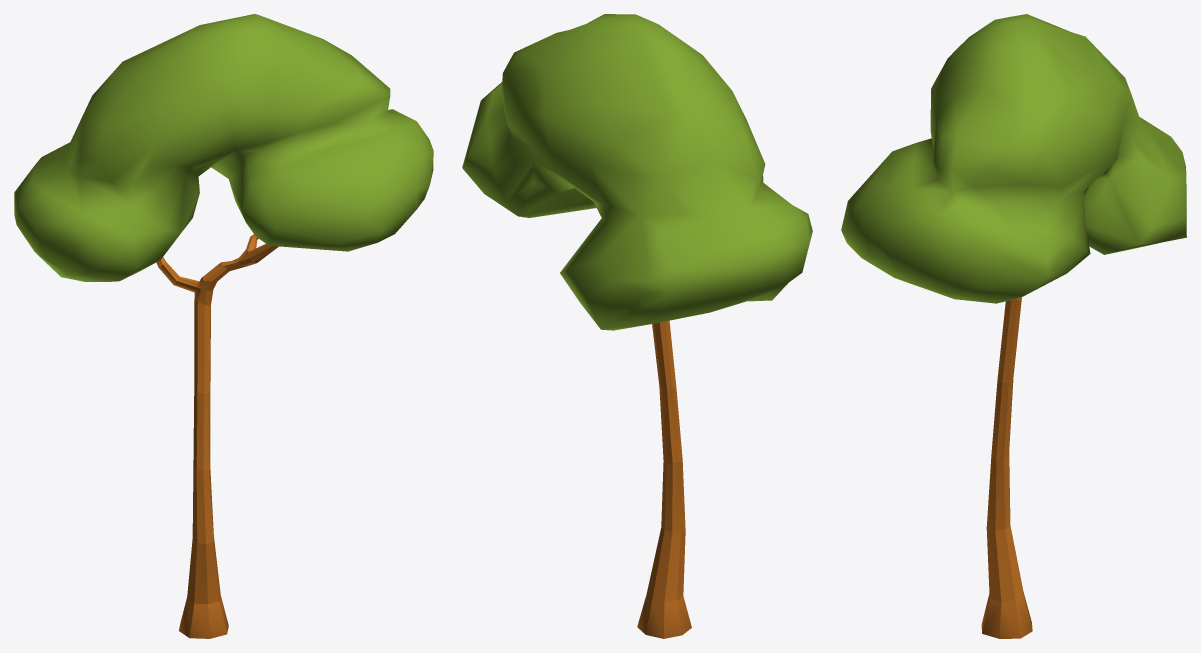
File: Tree_17_Spring.fbx
3 renders of one model, left to right at view 1: azimuth 30°, elevation 25°; view 2: azimuth 150°, elevation 25°; view 3: azimuth 270°, elevation 25°, orthographic. The views are drawn at different scales.
Parts seen in each view (by area): view 1: Tree_17_p2_Spring, Tree_17_p1_Spring; view 2: Tree_17_p2_Spring, Tree_17_p1_Spring; view 3: Tree_17_p2_Spring, Tree_17_p1_Spring.
Part boxes in pixels (bbox=[...]): Tree_17_p2_Spring: bbox=[14, 14, 433, 281]; Tree_17_p1_Spring: bbox=[156, 234, 278, 638]; Tree_17_p2_Spring: bbox=[462, 14, 812, 330]; Tree_17_p1_Spring: bbox=[637, 320, 691, 638]; Tree_17_p2_Spring: bbox=[841, 14, 1186, 303]; Tree_17_p1_Spring: bbox=[981, 297, 1032, 638].
Bounding box in the file's own units: 342 × 550 × 278.
